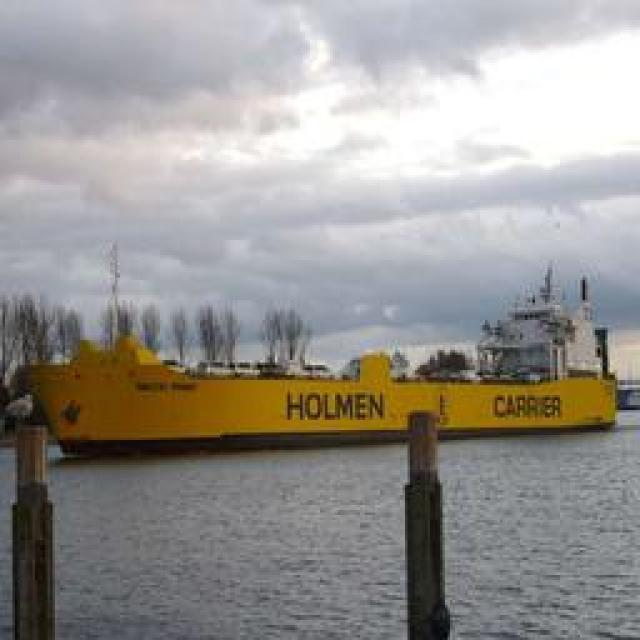ship2: (28, 280, 620, 450)
